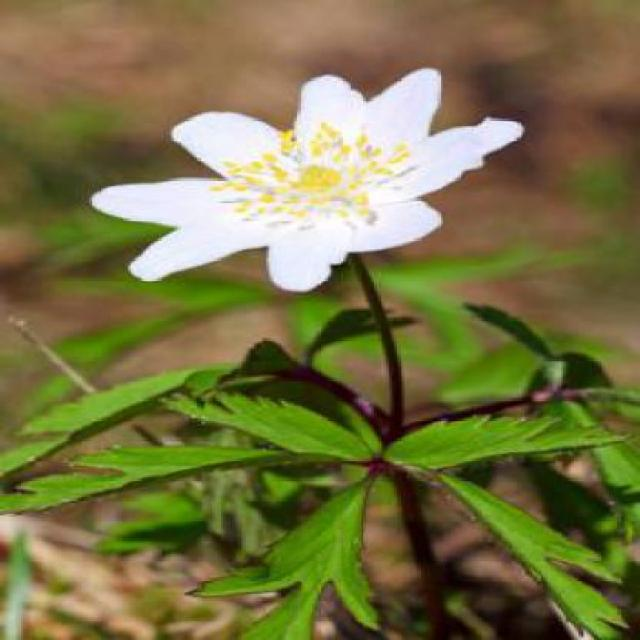Flower: (92, 68, 525, 292), (210, 123, 413, 229)
